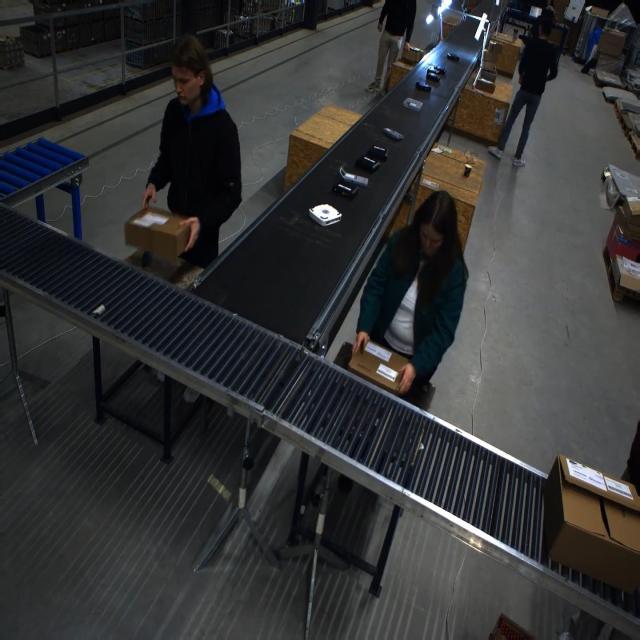box: (540, 450, 639, 592), (123, 206, 192, 262), (349, 338, 410, 394), (401, 41, 424, 65)
product: (309, 204, 341, 227), (339, 165, 367, 186), (354, 155, 380, 173), (334, 182, 359, 200), (365, 144, 387, 162), (402, 98, 423, 112), (382, 127, 404, 140), (415, 81, 431, 92), (426, 70, 440, 82), (432, 65, 446, 74), (446, 52, 459, 61)
